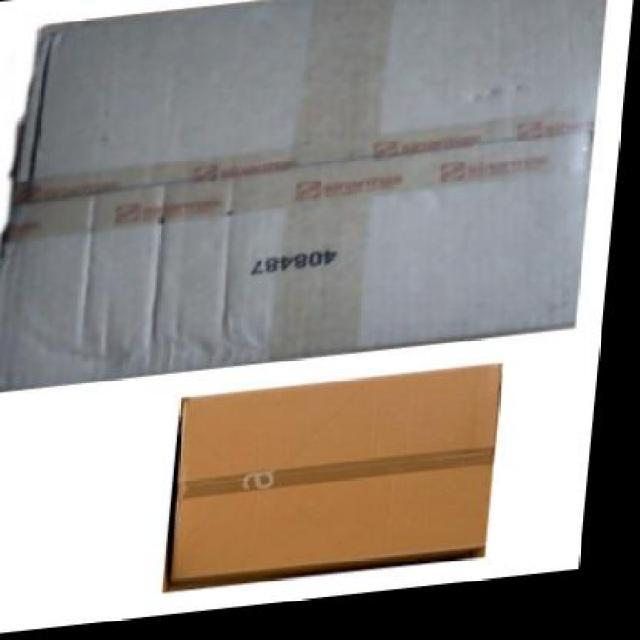box: (0, 0, 607, 395), (175, 376, 510, 592)
